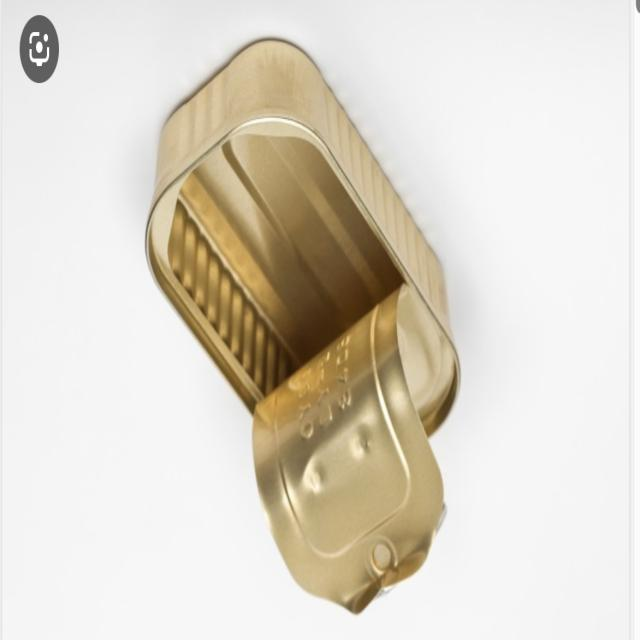can: (140, 30, 489, 627)
